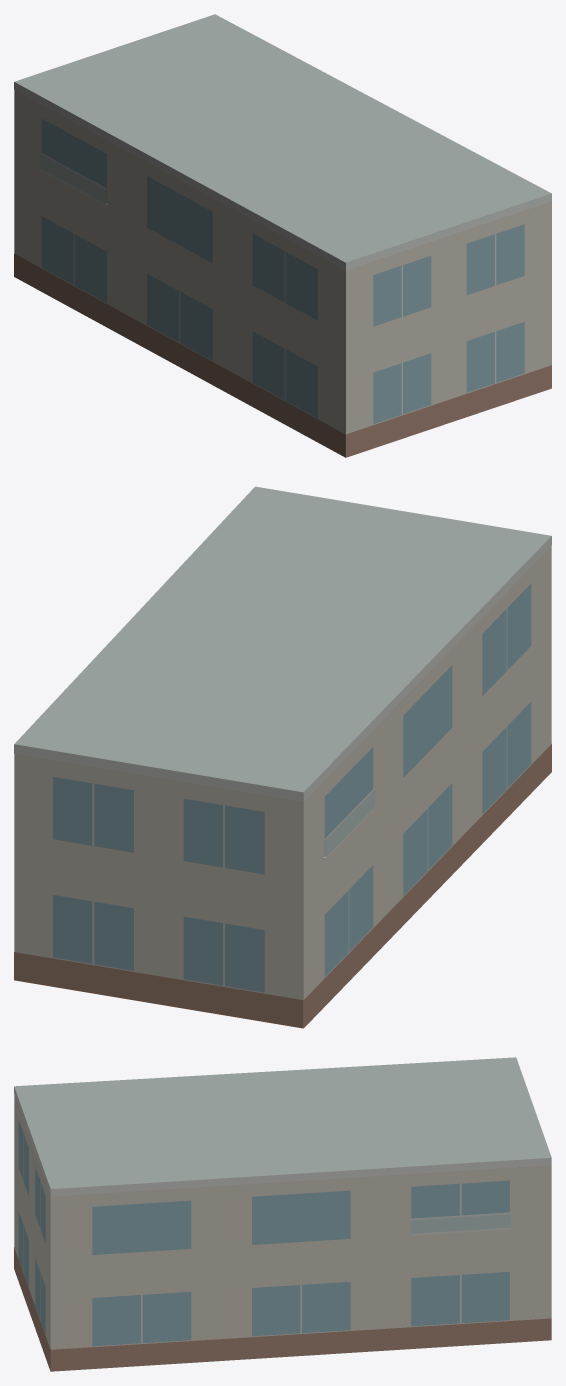
File: survey-upis-32958223.glb
3 renders of one model, top to bottom at view 1: azimuth 30°, elevation 25°; view 2: azimuth 150°, elevation 25°; view 3: azimuth 270°, elevation 25°, orthographic. The views are drawn at different scales.
Parts seen in each view (by area): view 1: survey-upis-32958223.tmp; view 2: survey-upis-32958223.tmp; view 3: survey-upis-32958223.tmp.
Part boxes in pixels (left/top/right/bottom): survey-upis-32958223.tmp: left=14, top=14, right=551, bottom=457; survey-upis-32958223.tmp: left=14, top=486, right=551, bottom=1028; survey-upis-32958223.tmp: left=14, top=1057, right=551, bottom=1371.
Bounding box in the file's own units: 9.47 × 6.1 × 16.3.
